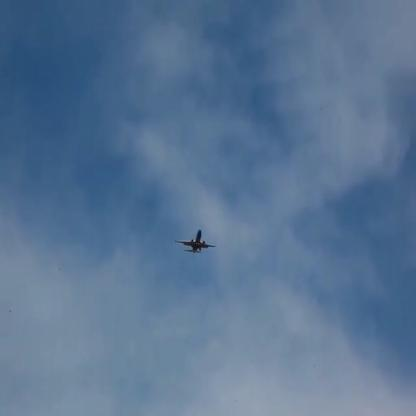CIV_Plane: (174, 230, 216, 254)
